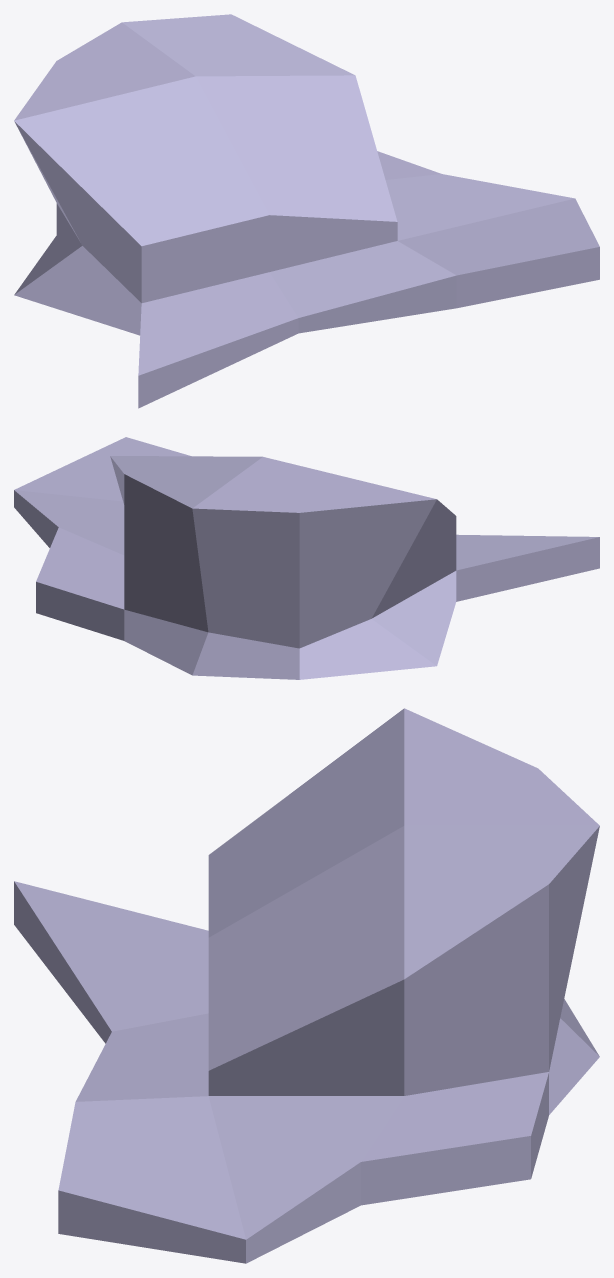
Rendered from Rock1.fbx.
3 views of the same model, one above another, from view 1: azimuth 30°, elevation 25°; view 2: azimuth 150°, elevation 25°; view 3: azimuth 270°, elevation 25° (orthographic). The views are drawn at different scales.
Visible parts, largest first — view 1: rock1; view 2: rock1; view 3: rock1.
Part boxes in pixels (x1,y1,x2,y2): rock1: (14, 14, 599, 408); rock1: (14, 437, 599, 679); rock1: (14, 708, 599, 1263).
Size of the model in its own units: 273 by 86.89 by 200.
